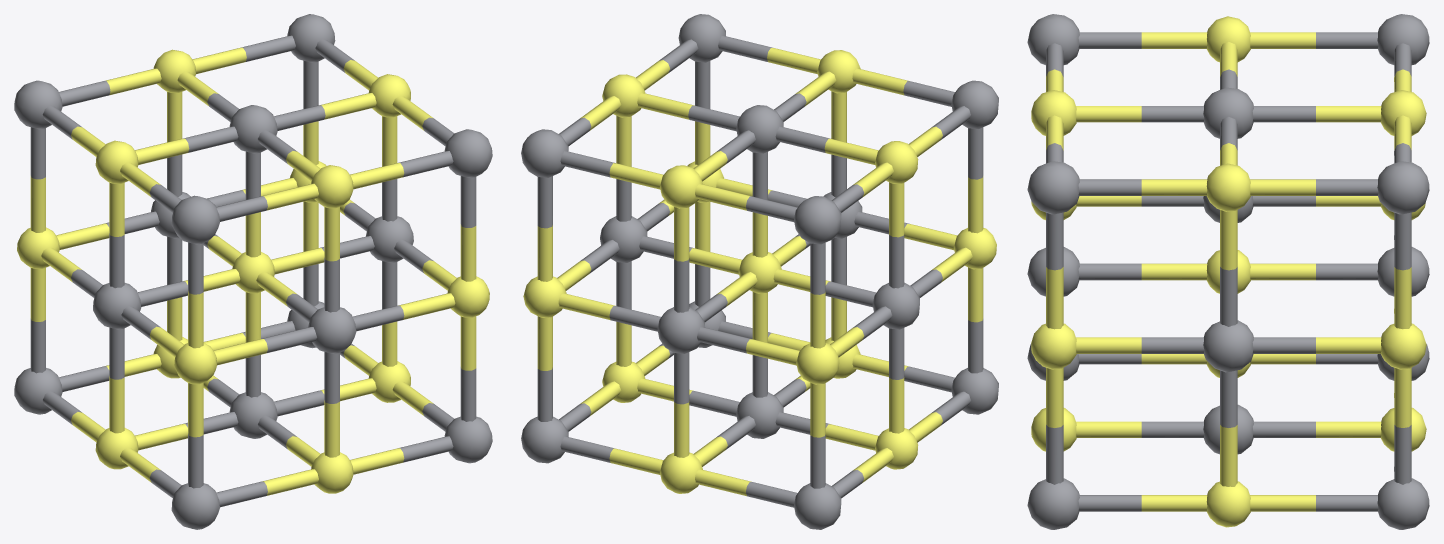
The model's file is galena.fbx.
3 views of the same model, side by side, from view 1: azimuth 30°, elevation 25°; view 2: azimuth 150°, elevation 25°; view 3: azimuth 270°, elevation 25° (orthographic). The views are drawn at different scales.
Visible parts, largest first — view 1: Pb, S.001; view 2: Pb, S.001; view 3: Pb, S.001.
Part boxes in pixels (x1,y1,x2,y2): Pb: (14, 14, 492, 529); S.001: (17, 47, 489, 495); Pb: (521, 14, 998, 529); S.001: (523, 48, 996, 496); Pb: (1027, 14, 1429, 529); S.001: (1031, 16, 1426, 527).
Bounding box in the file's own units: 16.93 × 16.92 × 16.98.
